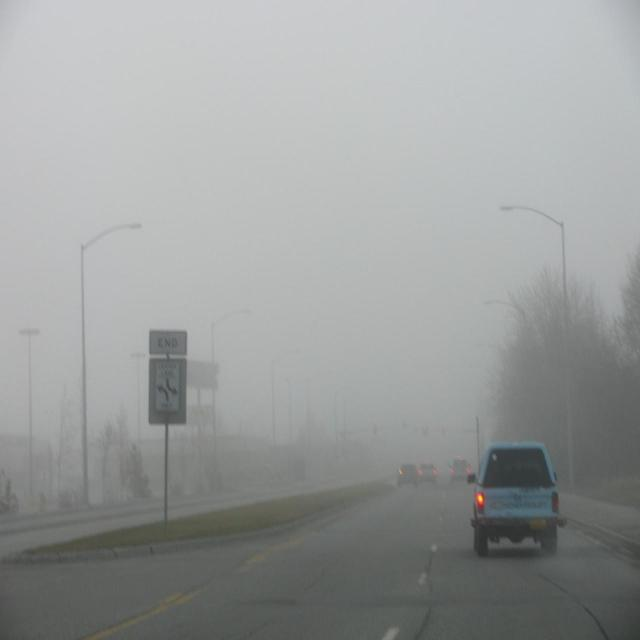Car: (395, 463, 420, 491), (447, 457, 473, 483), (418, 461, 439, 484)
Truck: (463, 441, 570, 558)
